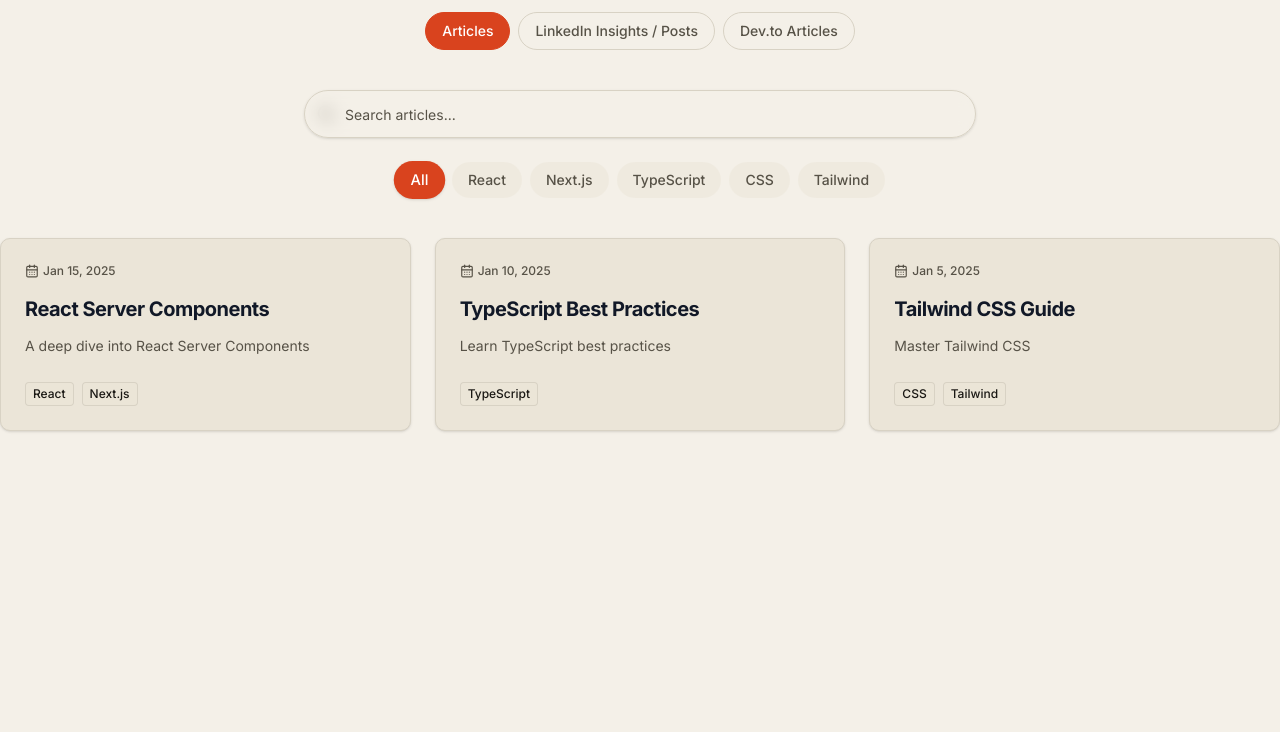
BlogList › should clear filters when clicking "Clear all filters"
The image size is (1280, 732).
Type "NonExistentPost" into the field with placeholder "Search articles..." at [640, 114], box 304,90 -> 976,138
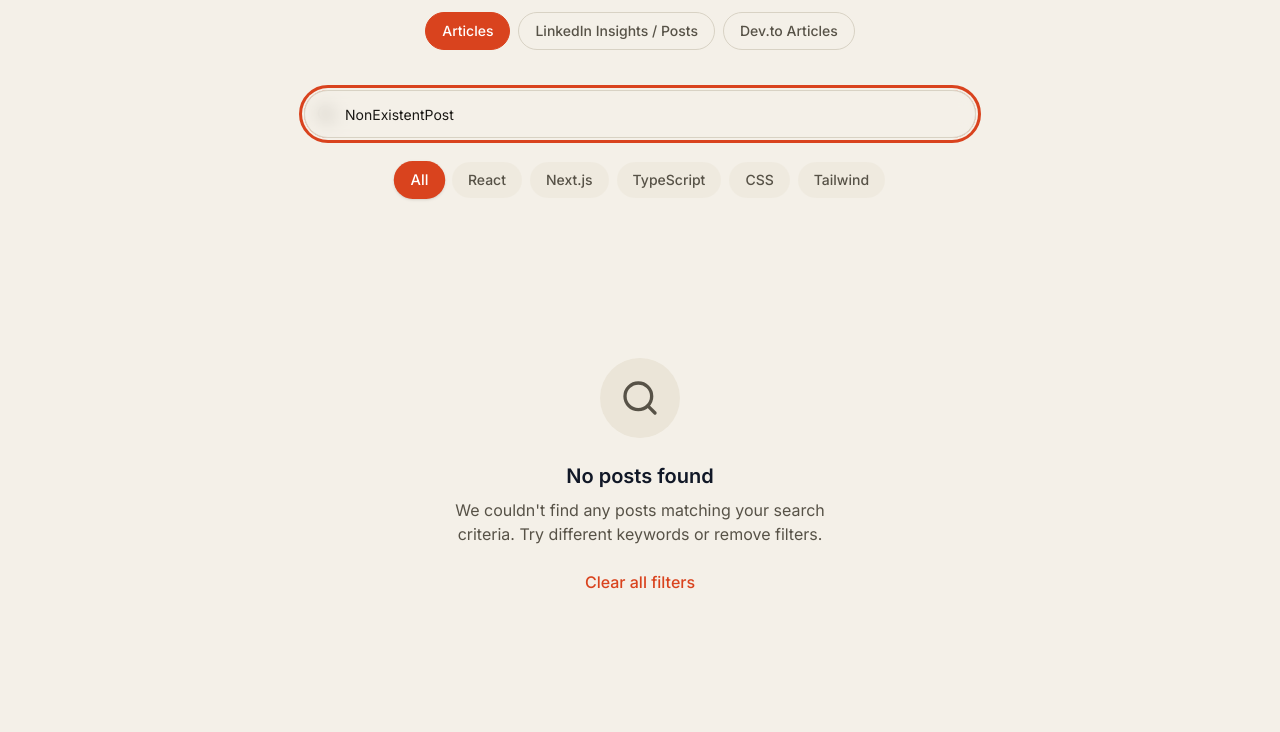
Click the button "Clear all filters" at [640, 582], box 585,570 -> 695,594
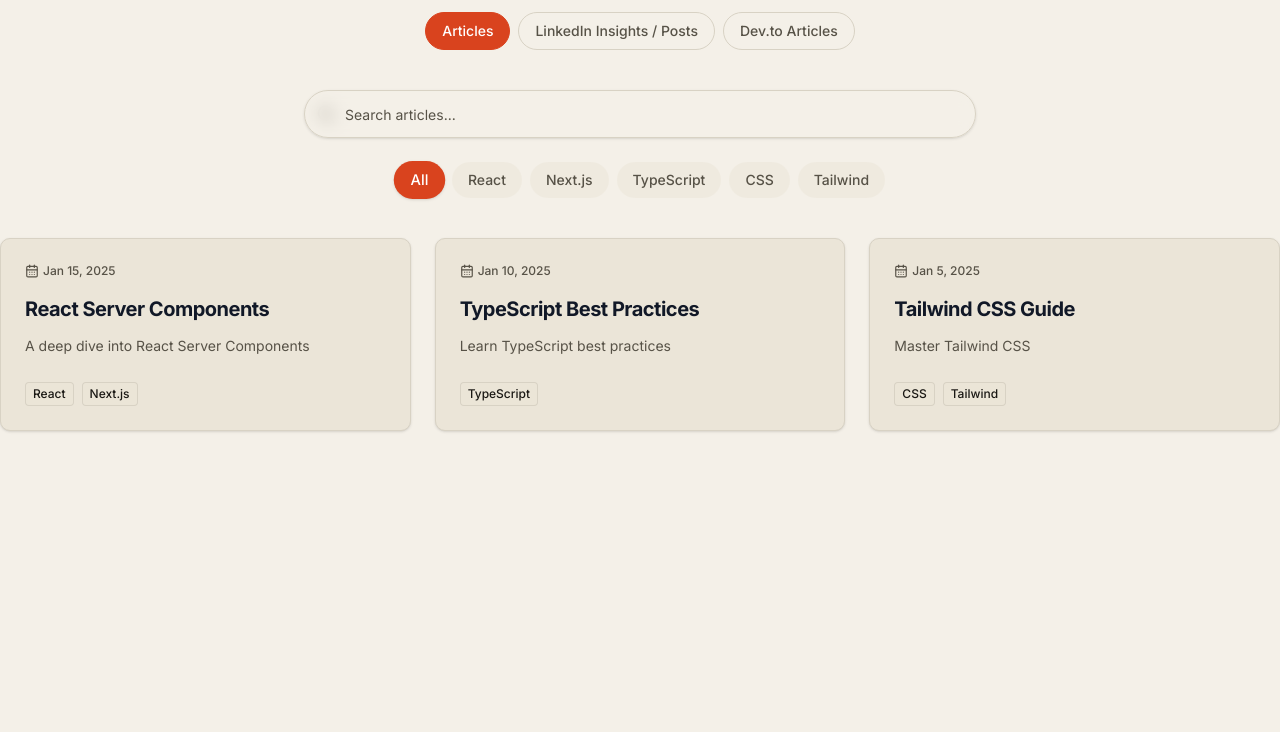
Result: the heading "React Server Components" is shown at 25,297 -> 269,321
Result: the heading "TypeScript Best Practices" is shown at 460,297 -> 699,321
Result: the heading "Tailwind CSS Guide" is shown at 894,297 -> 1075,321
